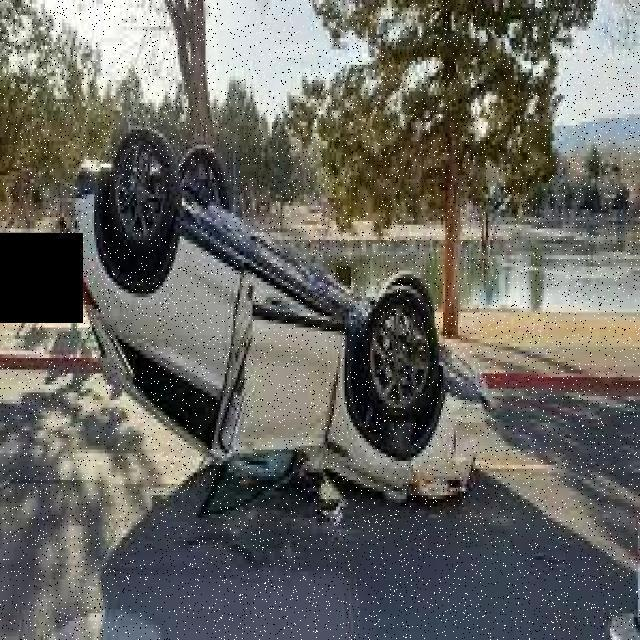accident: (71, 114, 492, 518)
